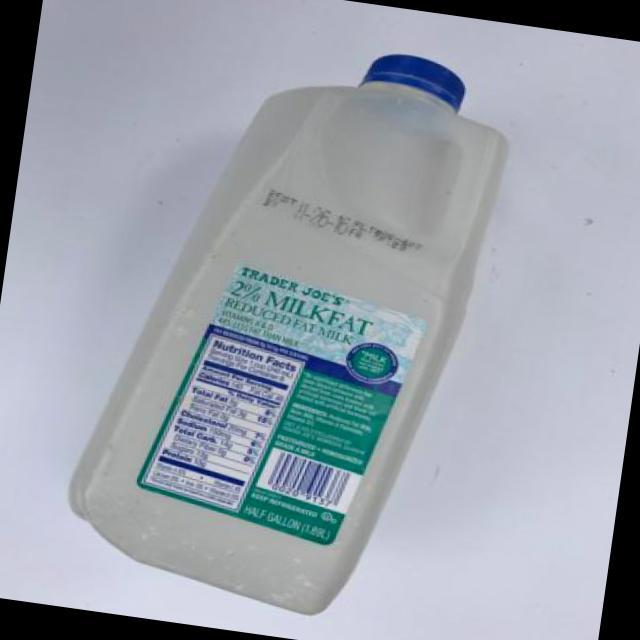HDPE Plastic: (66, 52, 514, 618)
